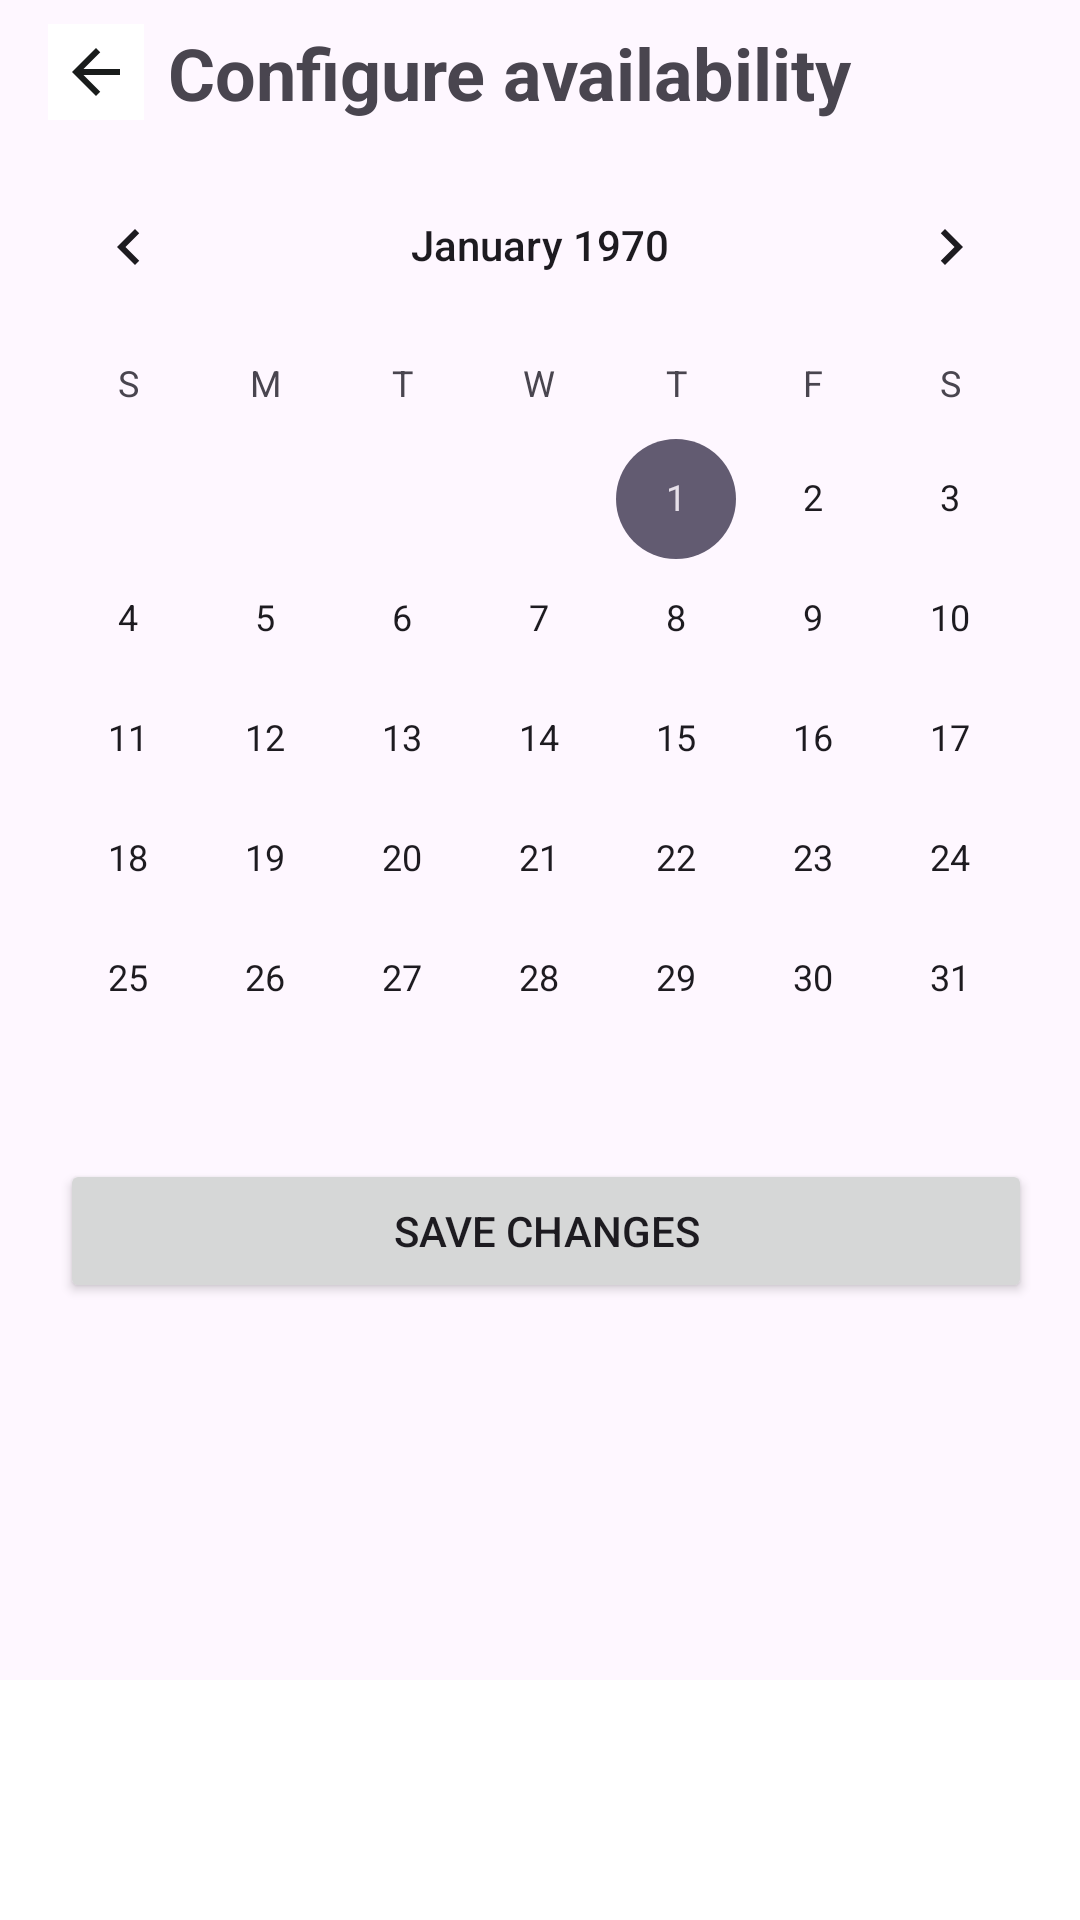

Icon bounding boxes for this 1080px×1920px phone screenshot, format (x1, y1, x2, y2):
arrow left: (72, 48, 120, 96)
